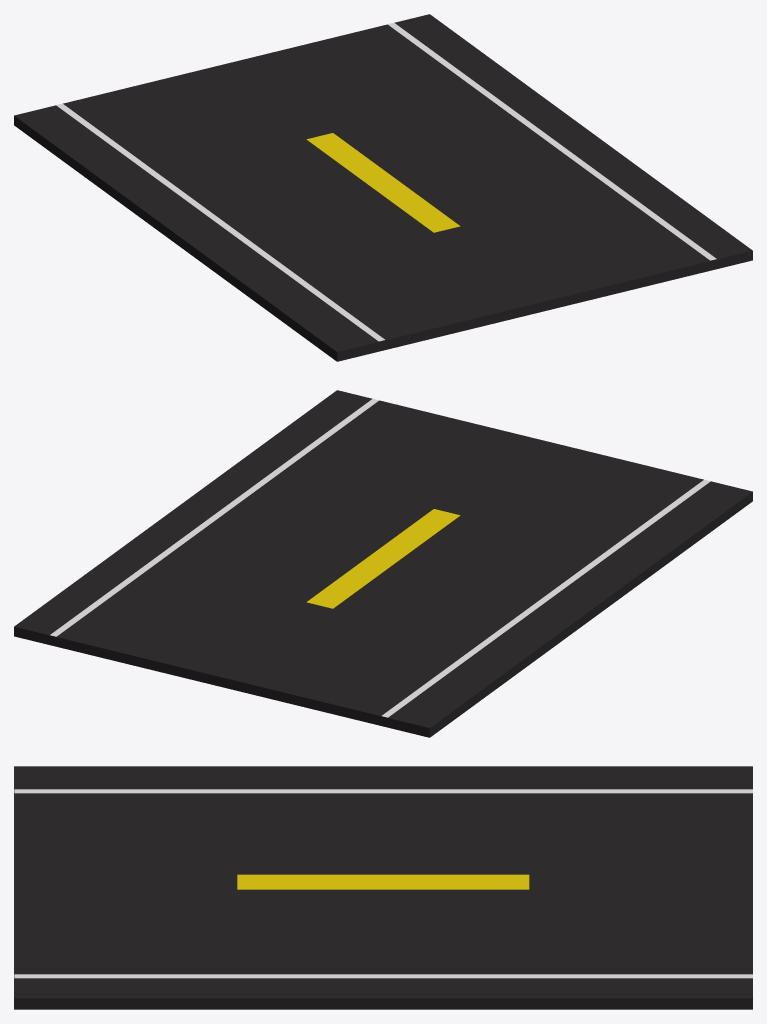
File: road.fbx
3 views of the same model, one above another, from view 1: azimuth 30°, elevation 25°; view 2: azimuth 150°, elevation 25°; view 3: azimuth 270°, elevation 25° (orthographic). The views are drawn at different scales.
Parts seen in each view (by area): view 1: Cube.001, Plane, Plane.001, Plane.002; view 2: Cube.001, Plane, Plane.001, Plane.002; view 3: Cube.001, Plane, Plane.002, Plane.001.
Part boxes in pixels (x1,y1,x2,y2): Cube.001: (14, 14, 752, 361); Plane: (306, 133, 460, 232); Plane.001: (56, 103, 384, 341); Plane.002: (387, 22, 716, 260); Cube.001: (14, 390, 752, 737); Plane: (306, 509, 460, 608); Plane.001: (382, 479, 710, 717); Plane.002: (50, 399, 378, 636); Cube.001: (14, 766, 752, 1009); Plane: (237, 874, 529, 889); Plane.002: (14, 974, 752, 978); Plane.001: (14, 789, 752, 793).
Size of the model in its own units: 833 by 19.22 by 1122.
